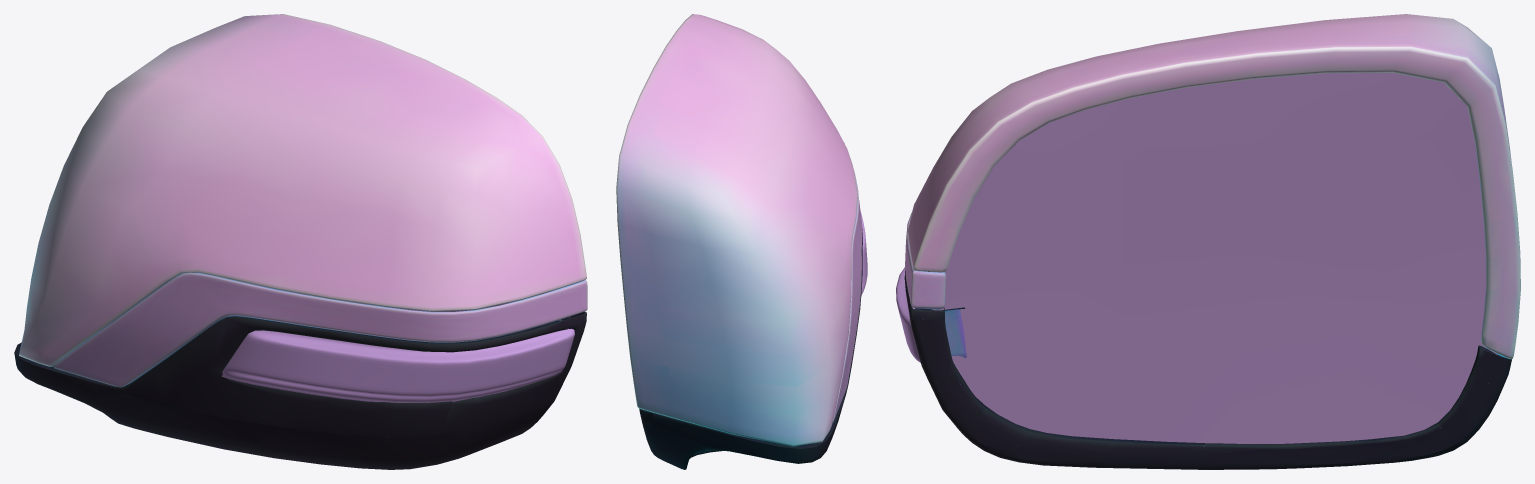
File: mirror_L.glb
3 views of the same model, side by side, from view 1: azimuth 30°, elevation 25°; view 2: azimuth 150°, elevation 25°; view 3: azimuth 270°, elevation 25° (orthographic). The views are drawn at different scales.
Visible parts, largest first — view 1: carpaint_7, black_11, chrome_4, clearglass_27; view 2: carpaint_7, black_11, chrome_4, clearglass_27; view 3: mirror_23, carpaint_7, black_11, chrome_4, clearglass_27.
Boxes of the visible parts, box(x1,y1,x2,y2) form: carpaint_7: box(19, 14, 586, 366); black_11: box(14, 312, 586, 469); chrome_4: box(53, 272, 587, 387); clearglass_27: box(222, 328, 574, 402); carpaint_7: box(616, 14, 857, 446); black_11: box(639, 228, 862, 469); chrome_4: box(833, 143, 862, 421); clearglass_27: box(860, 210, 867, 295); mirror_23: box(932, 73, 1498, 446); carpaint_7: box(907, 14, 1520, 359); black_11: box(904, 270, 1511, 469); chrome_4: box(905, 211, 966, 357); clearglass_27: box(896, 267, 920, 362).
Size of the model in its own units: 0.1989 by 0.2084 by 0.2601.
